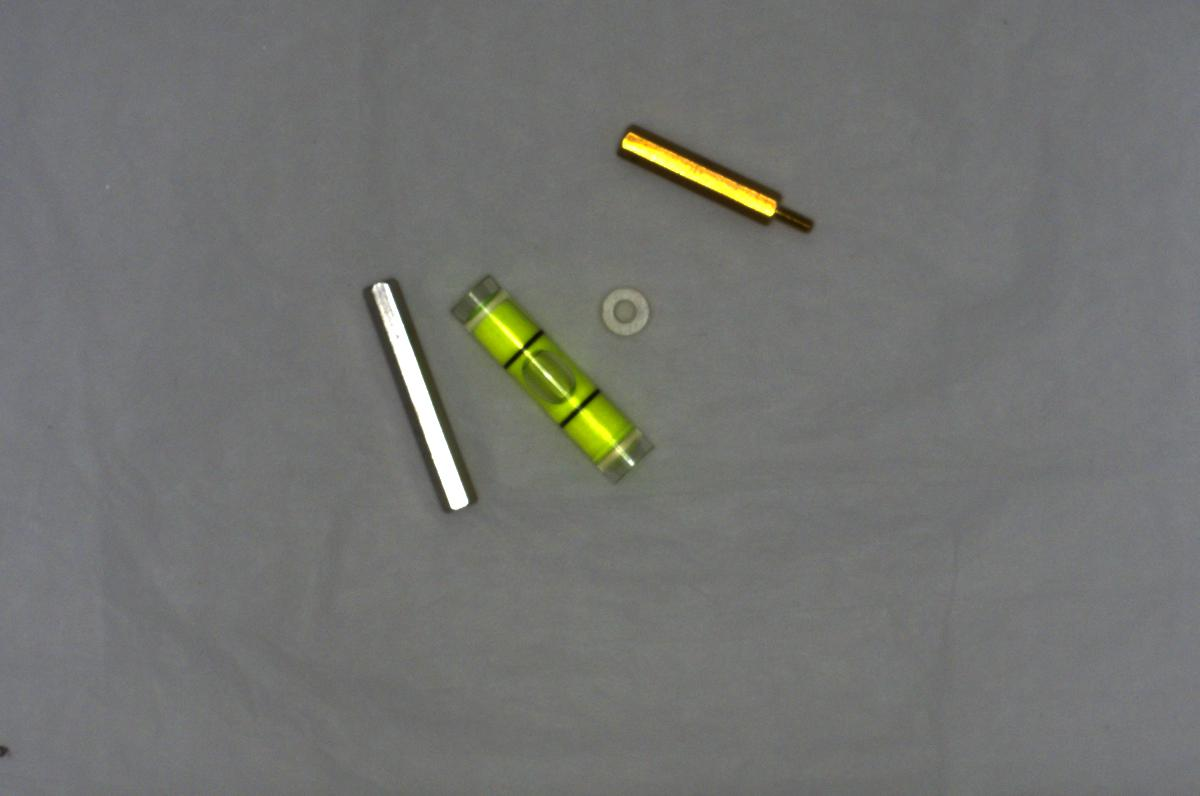Double hexagonal column: (360, 270, 475, 522)
Hexagon pillar: (607, 121, 815, 238)
Horizontal bubble: (452, 272, 652, 486)
Plastic cushion pillar: (588, 275, 667, 348)
